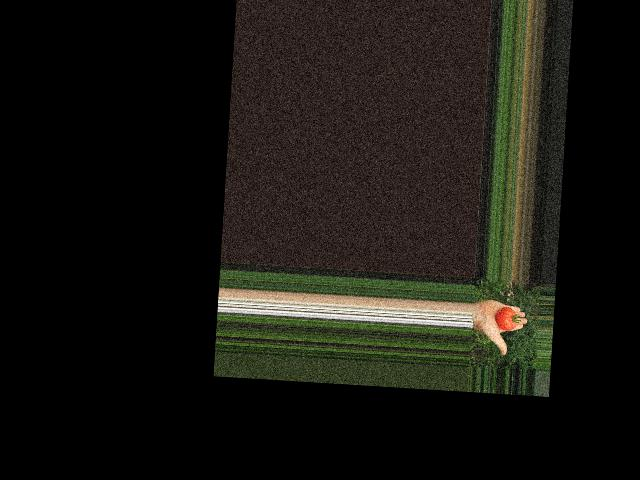tomato: (495, 305, 517, 331)
